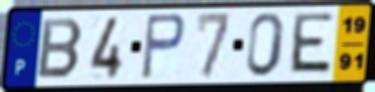0: (245, 11, 288, 79)
4: (87, 14, 125, 81)
7: (195, 10, 232, 82)
B: (35, 17, 86, 81)
E: (286, 11, 336, 77)
P: (139, 12, 188, 82)
